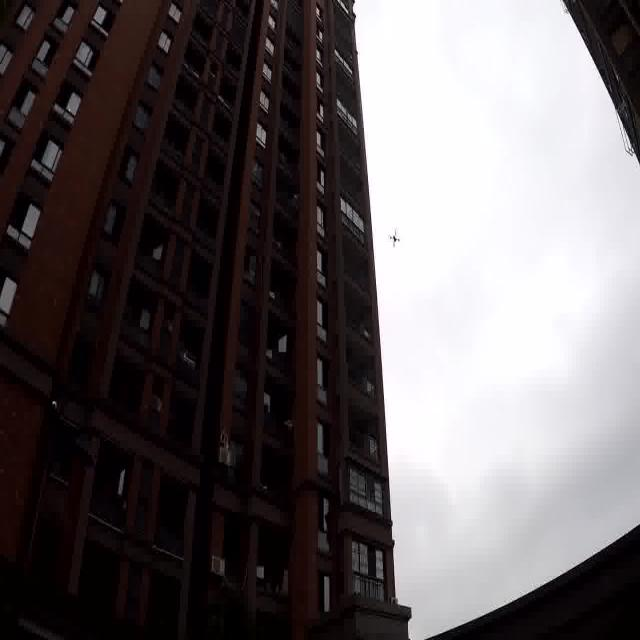drones: (381, 218, 405, 258)
